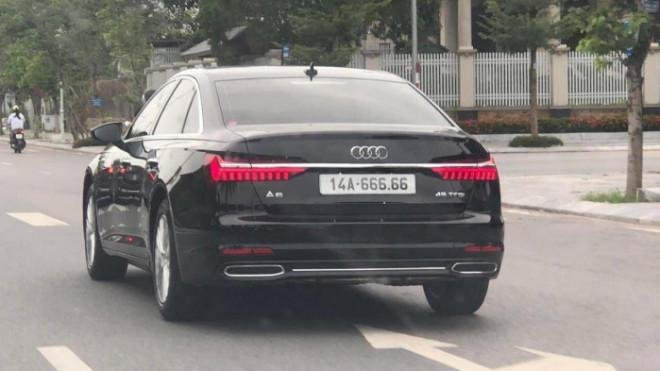numplate: (317, 170, 415, 196)
